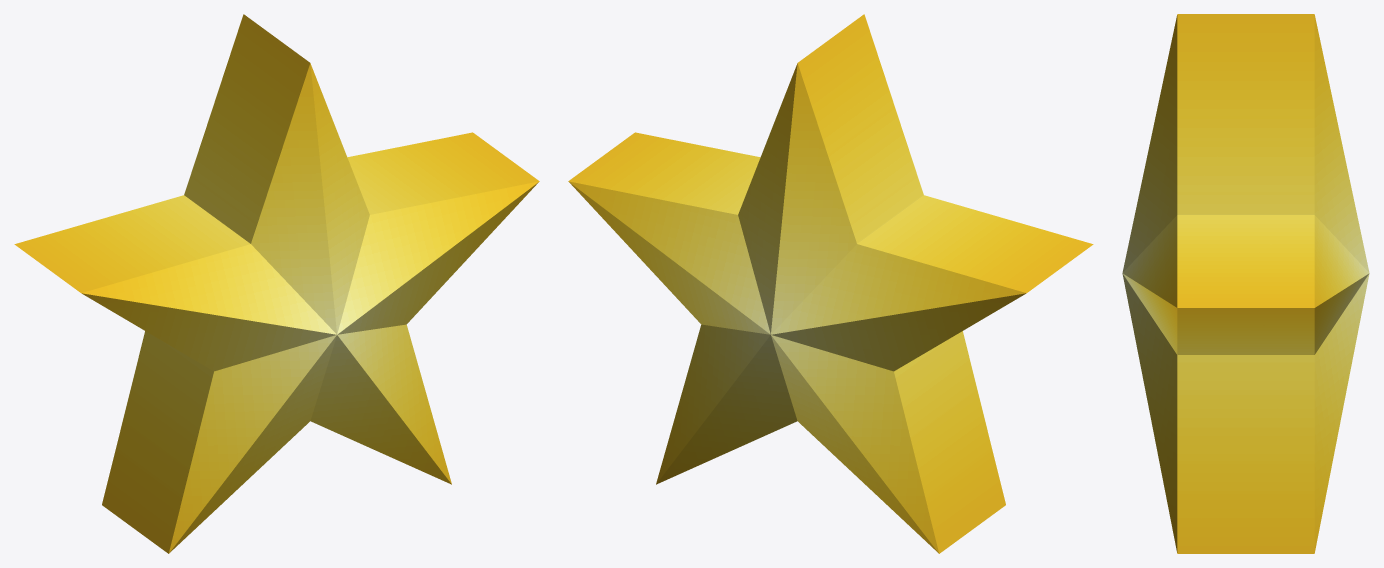
Rendered from star.obj.
3 renders of one model, left to right at view 1: azimuth 30°, elevation 25°; view 2: azimuth 150°, elevation 25°; view 3: azimuth 270°, elevation 25°, orthographic. The views are drawn at different scales.
Visible parts, largest first — view 1: Star; view 2: Star; view 3: Star.
Boxes of the visible parts, <box> form: Star: <box>14,14,539,553</box>; Star: <box>568,14,1093,553</box>; Star: <box>1122,14,1369,553</box>.
Size of the model in its own units: 0.9511 by 0.9045 by 0.432.
1 material, 1 textured.
